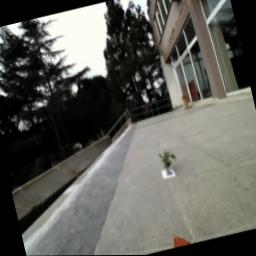herb: (158, 147, 182, 179)
